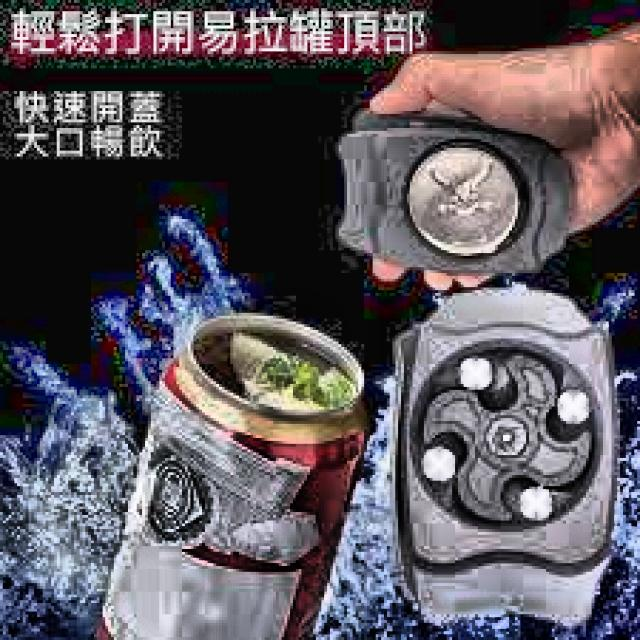can: (66, 290, 374, 640)
